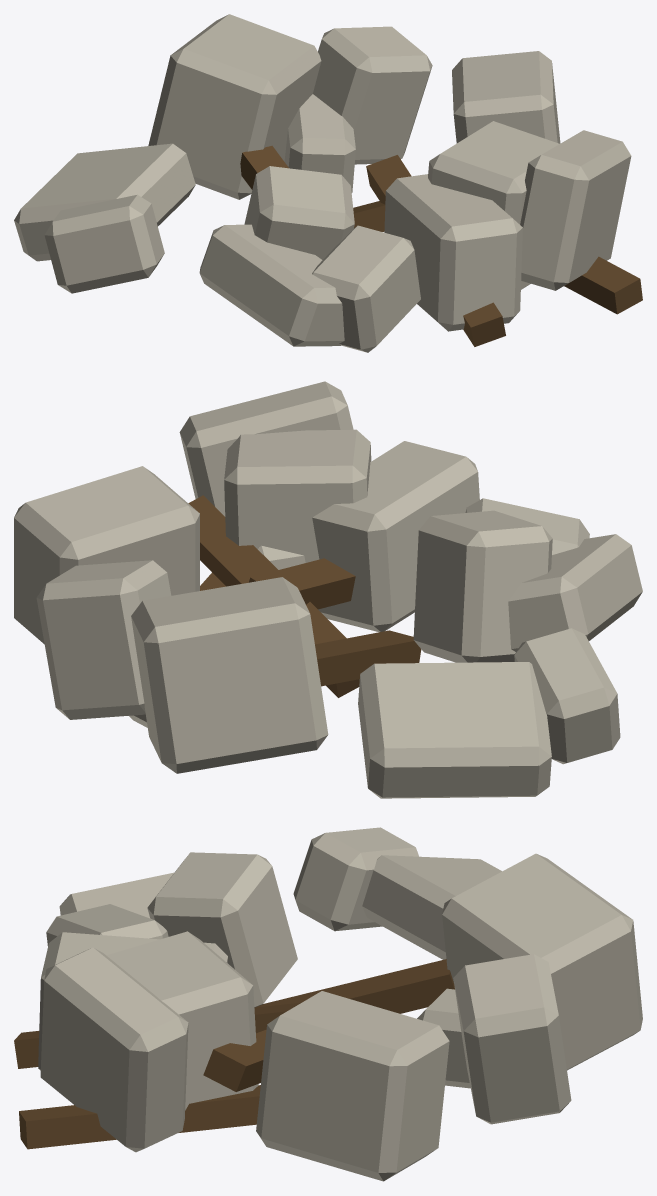
Rendered from rubble.glb.
3 views of the same model, one above another, from view 1: azimuth 30°, elevation 25°; view 2: azimuth 150°, elevation 25°; view 3: azimuth 270°, elevation 25° (orthographic). The views are drawn at different scales.
Parts seen in each view (by area): view 1: RubbleStone, RubbleWood; view 2: RubbleStone, RubbleWood; view 3: RubbleStone, RubbleWood.
Part boxes in pixels (x1,y1,x2,y2): RubbleStone: (14, 14, 631, 352); RubbleWood: (240, 145, 642, 346); RubbleStone: (14, 381, 642, 798); RubbleWood: (188, 495, 421, 697); RubbleStone: (38, 827, 642, 1181); RubbleWood: (14, 959, 454, 1149).
Bounding box in the file's own units: 2.78 × 0.7751 × 2.59.
